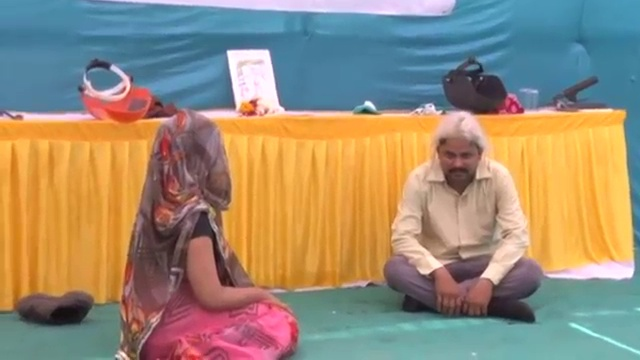helmet_off: (148, 109, 234, 210), (433, 112, 485, 186)
person: (116, 106, 301, 360), (384, 111, 545, 325)
